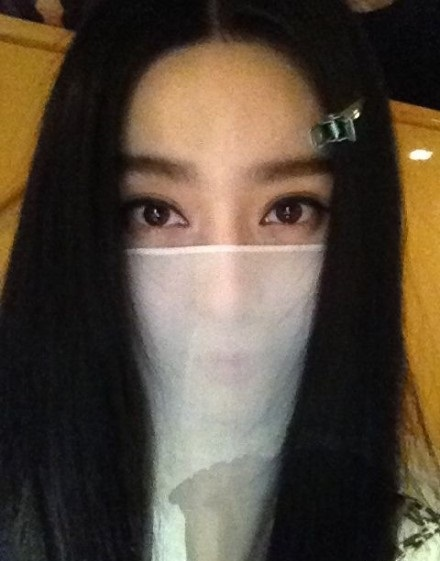face_mask: (103, 40, 336, 410)
